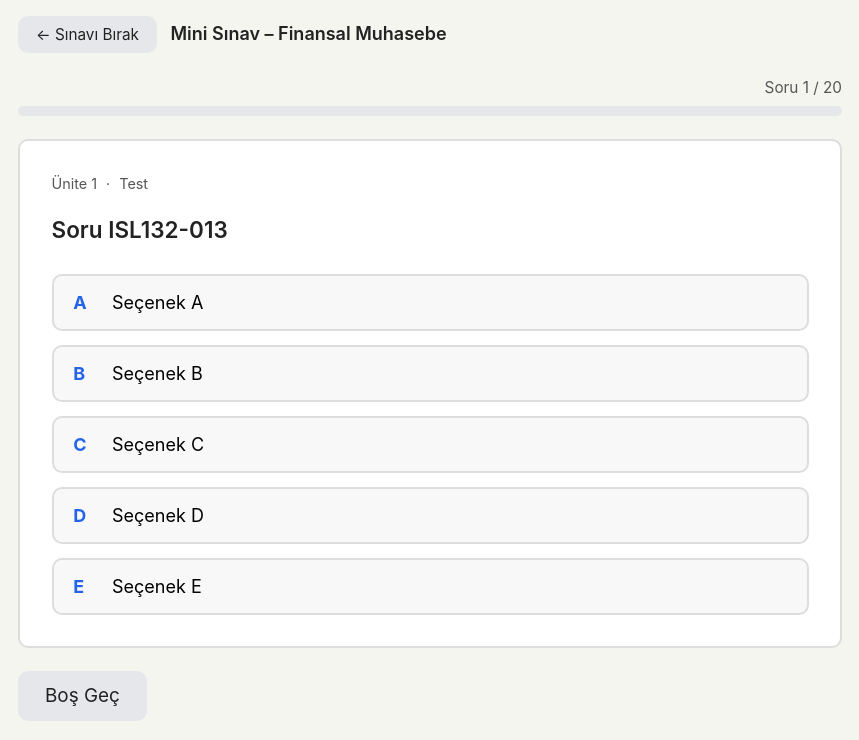
MiniSinav — yeterli soru senaryosu › boş geç butonuyla soru atlanabilir
Click the button "Boş Geç".
click(82, 696)  # box 18,671 -> 147,721
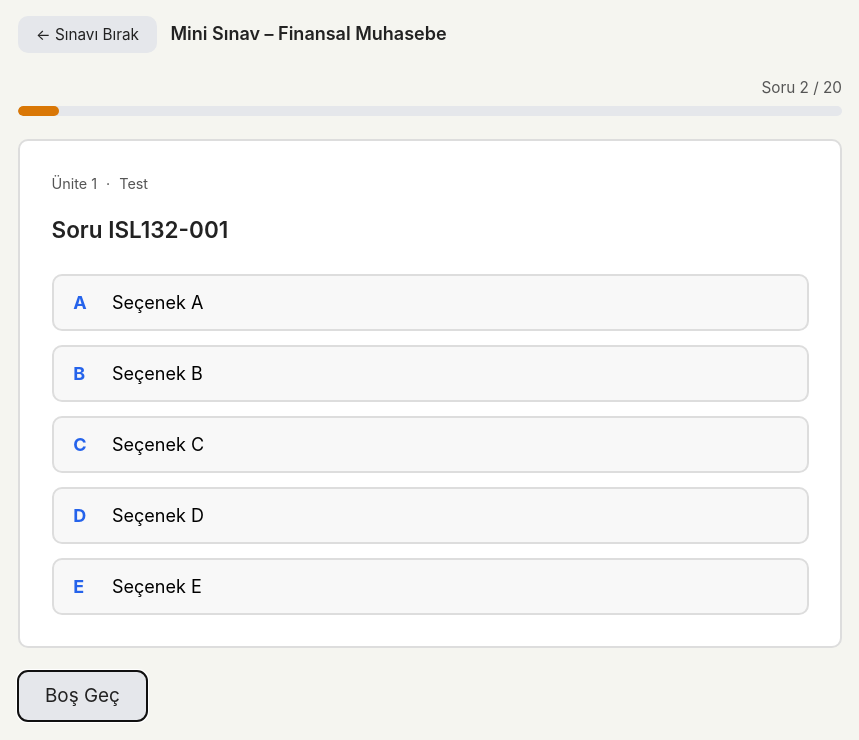
Now the text "Soru 2 / 20" is shown, box 762,78 -> 842,96
